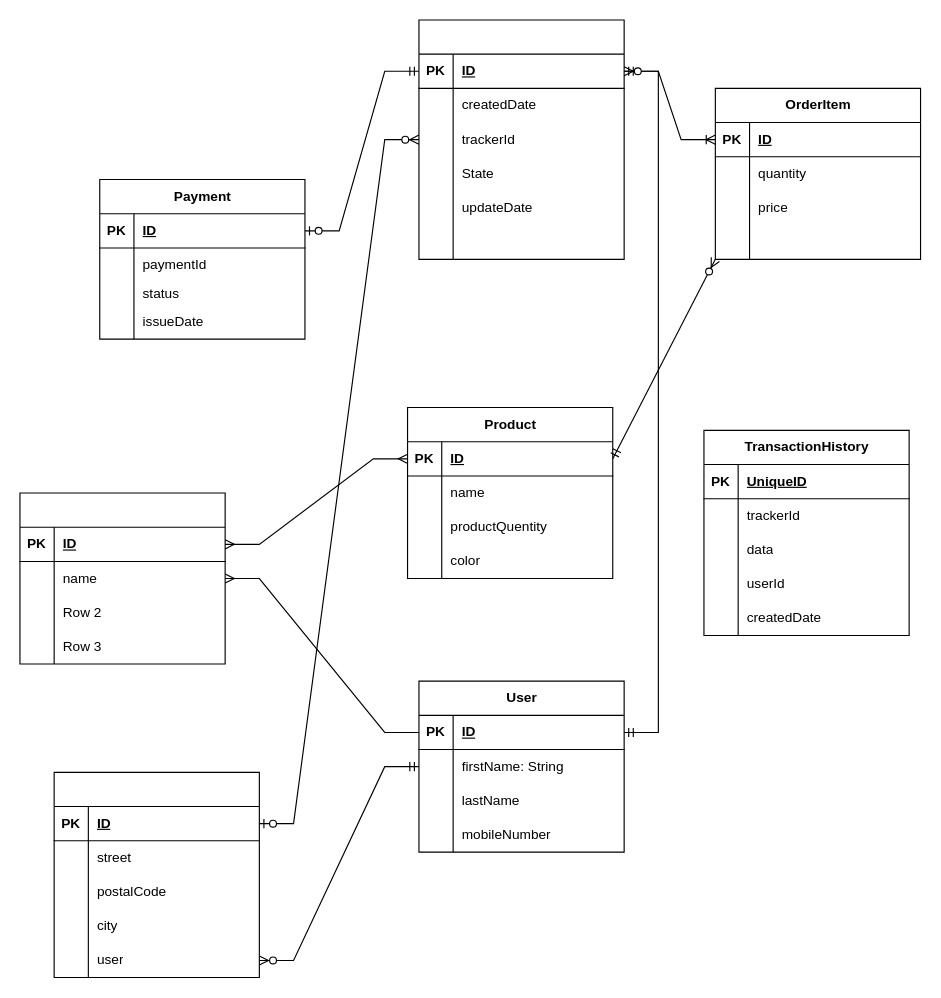
The diagram is 941 pixels wide and 998 high, and some of its shapes have lost their labels. The shapes that lost their labels are listed below. From the top down, each one's box as (x1, y1, x2, y2) in pixels, then its label:
(418, 19, 624, 259): Order
(19, 492, 225, 664): Store
(53, 771, 259, 978): Address
